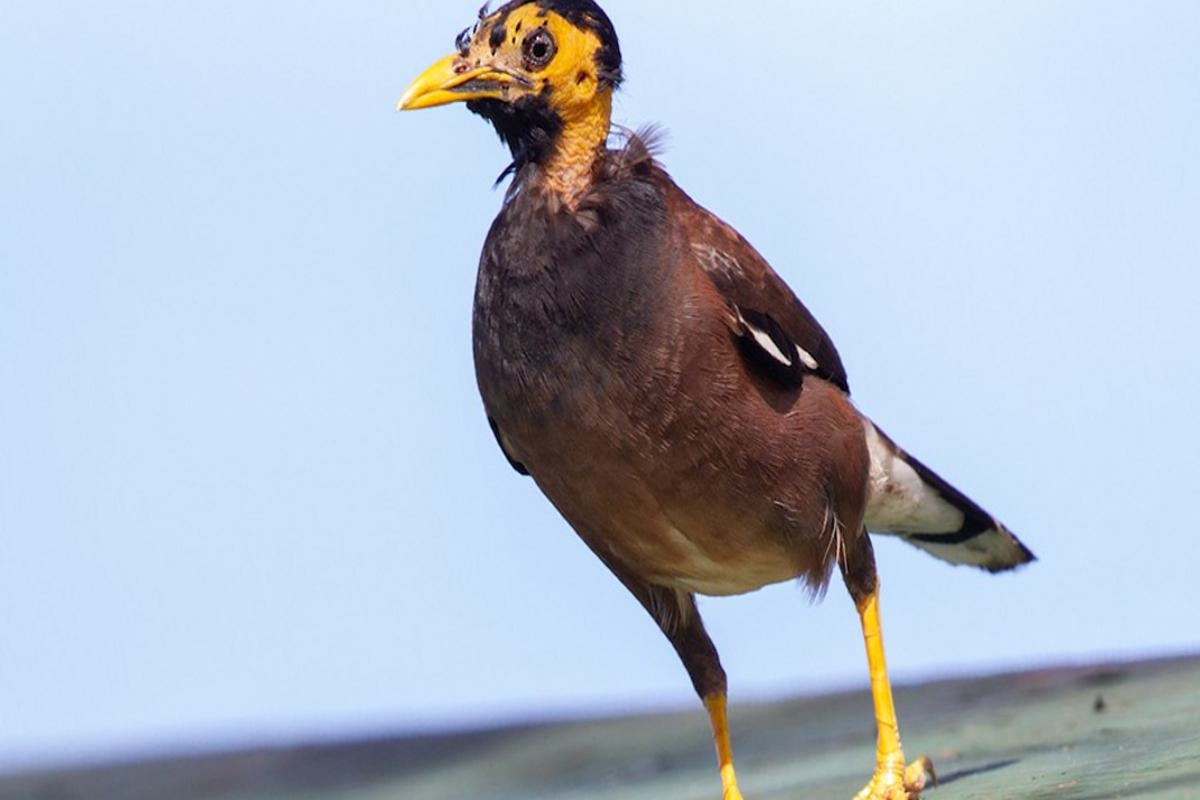myna: (399, 6, 995, 704)
